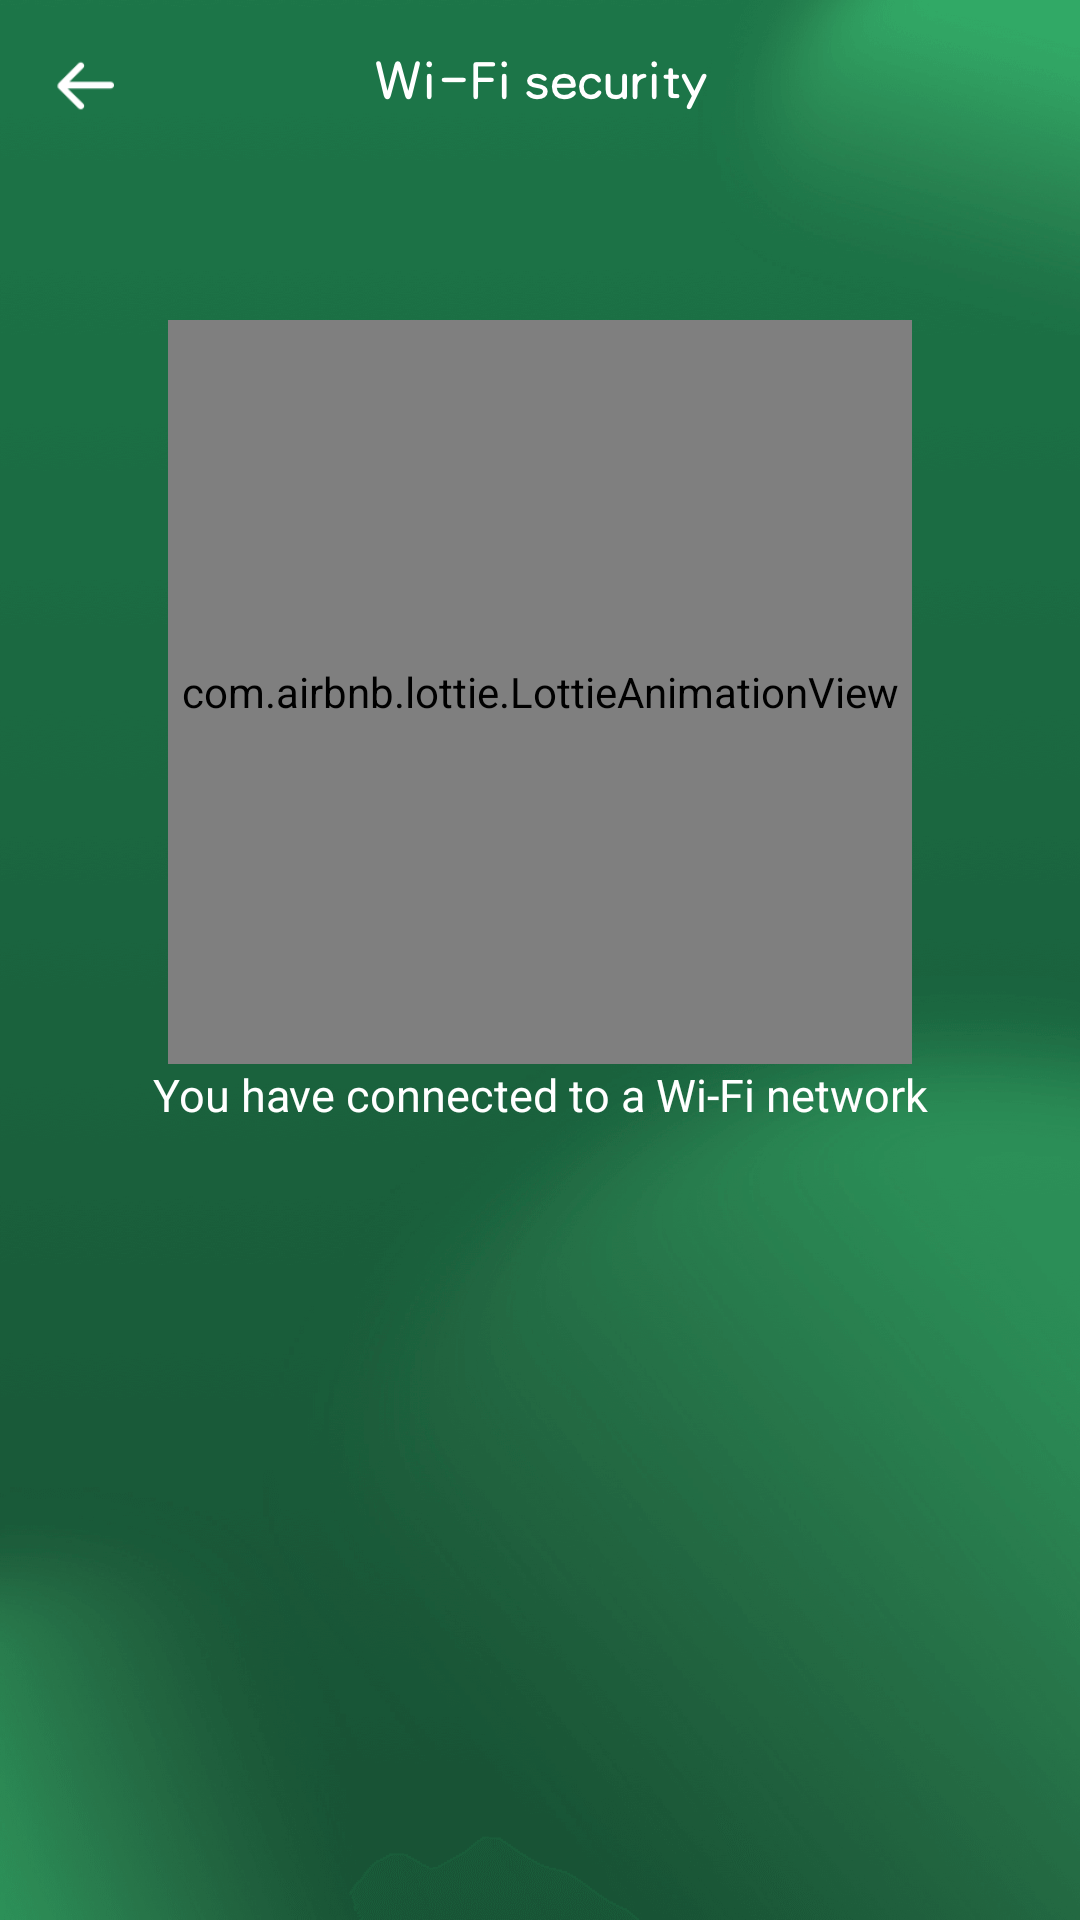

Locate icon controls on the screen. Image size 1080w x 1920h, boxes as (x1, y1, x2, y2).
back: (57, 62, 114, 110)
